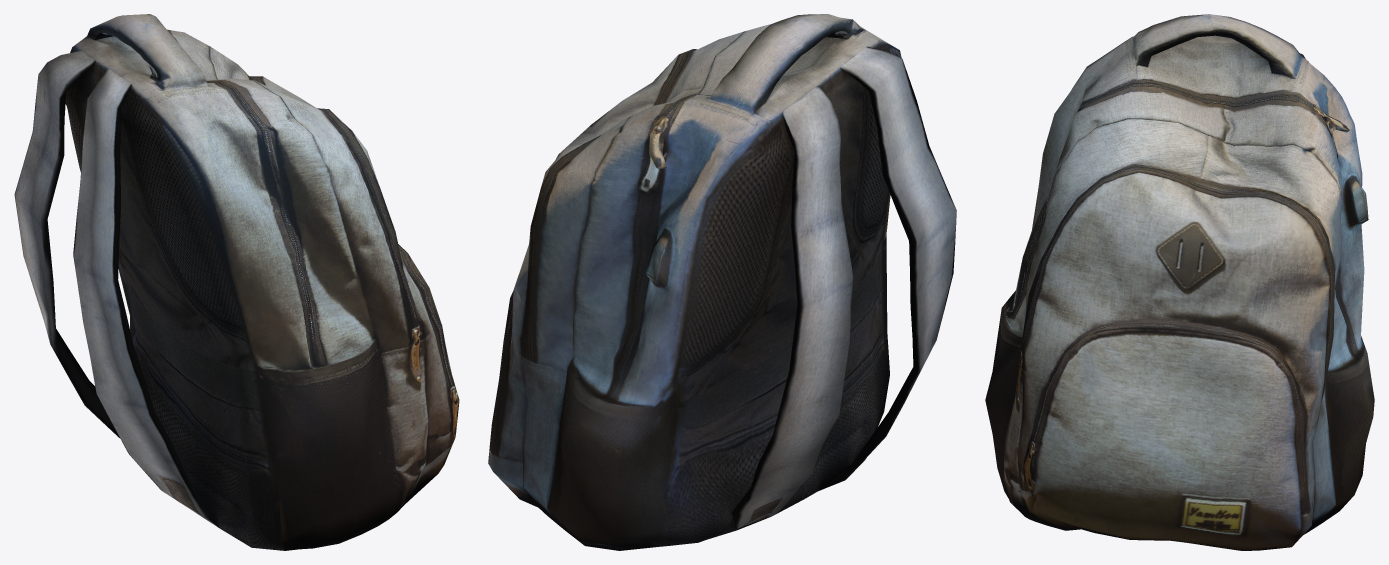
The model's file is grey_backpack.glb.
3 views of the same model, side by side, from view 1: azimuth 30°, elevation 25°; view 2: azimuth 150°, elevation 25°; view 3: azimuth 270°, elevation 25° (orthographic). The views are drawn at different scales.
Parts seen in each view (by area): view 1: backback; view 2: backback; view 3: backback.
Part boxes in pixels (x1,y1,x2,y2): backback: (14,14,459,550); backback: (488,14,956,550); backback: (985,14,1374,550).
Size of the model in its own units: 0.4487 by 0.5975 by 0.4694.
1 material, 1 textured.
